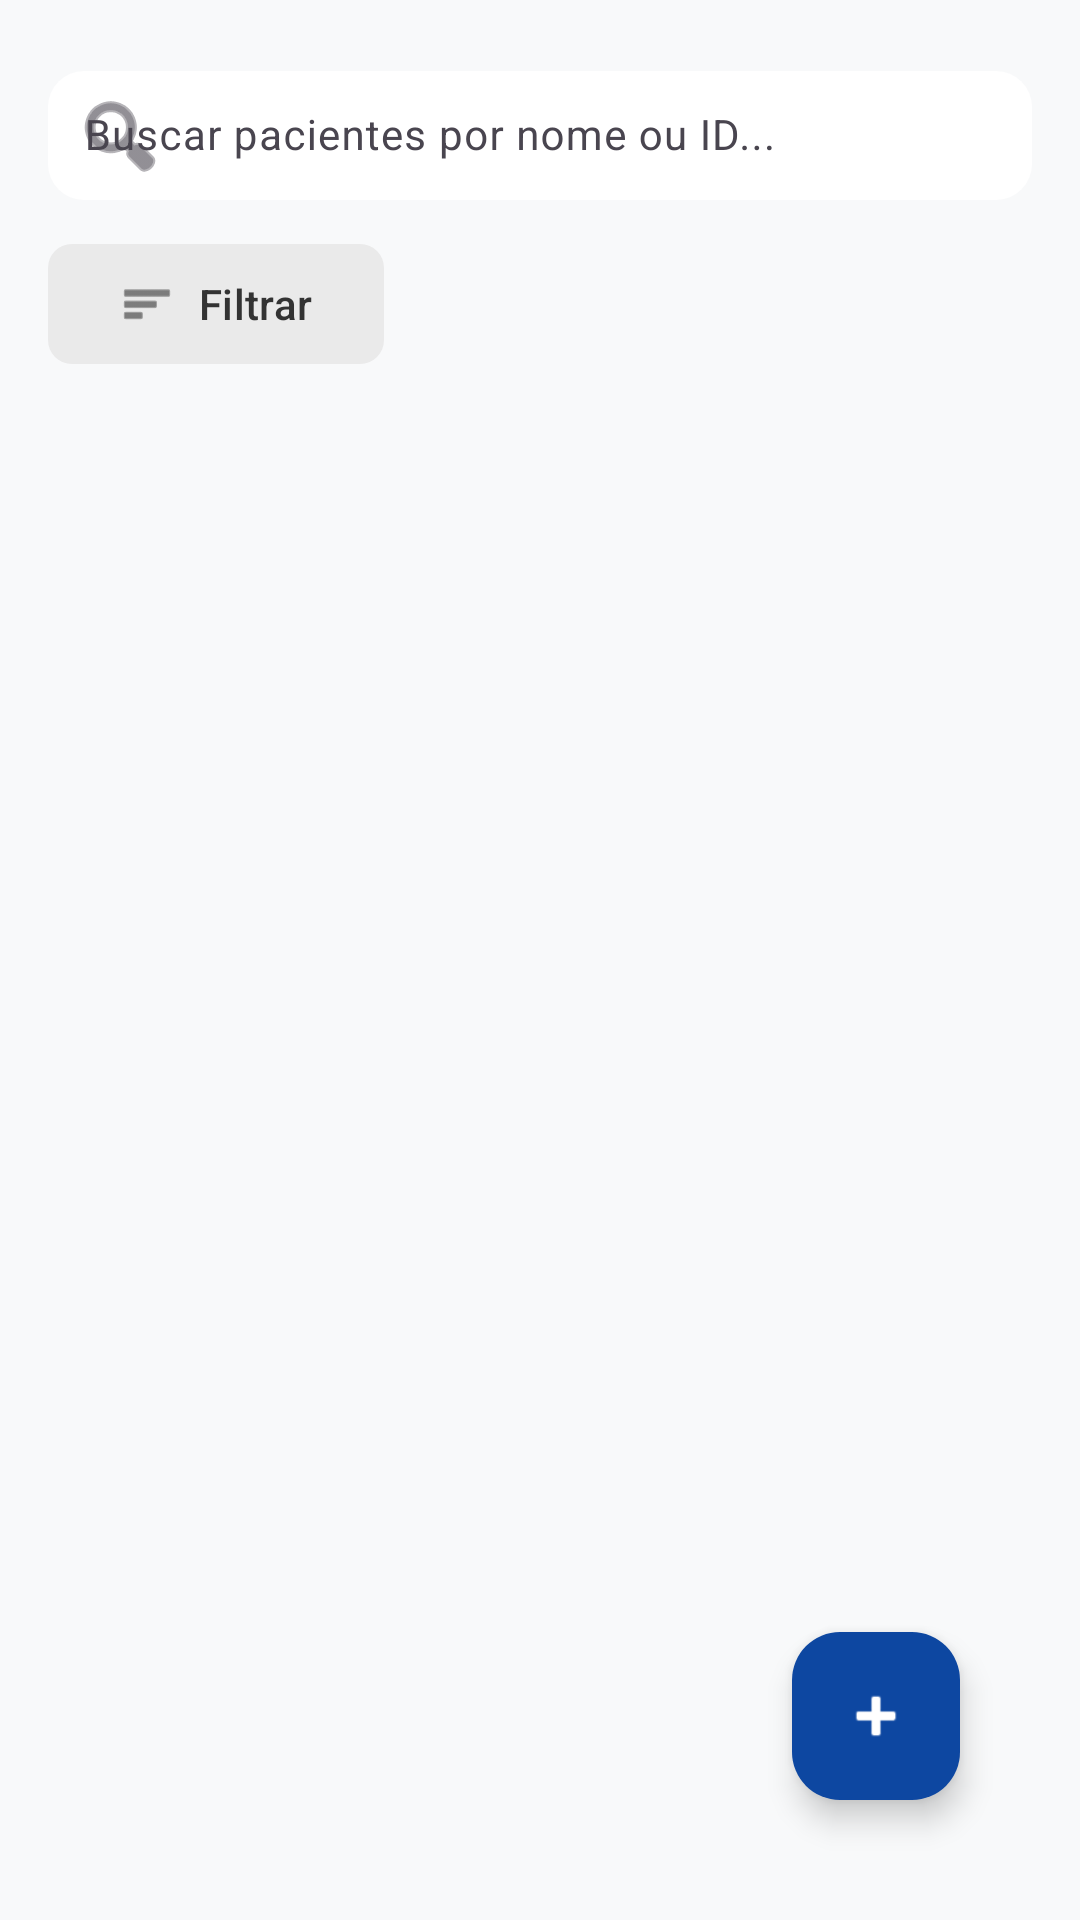

Named icons in this screenshot (1080x1920) and their bounding boxes, [x1,y1,x2,y2]:
add: [792,1632,960,1800]
